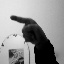g: (9, 14, 44, 44)
